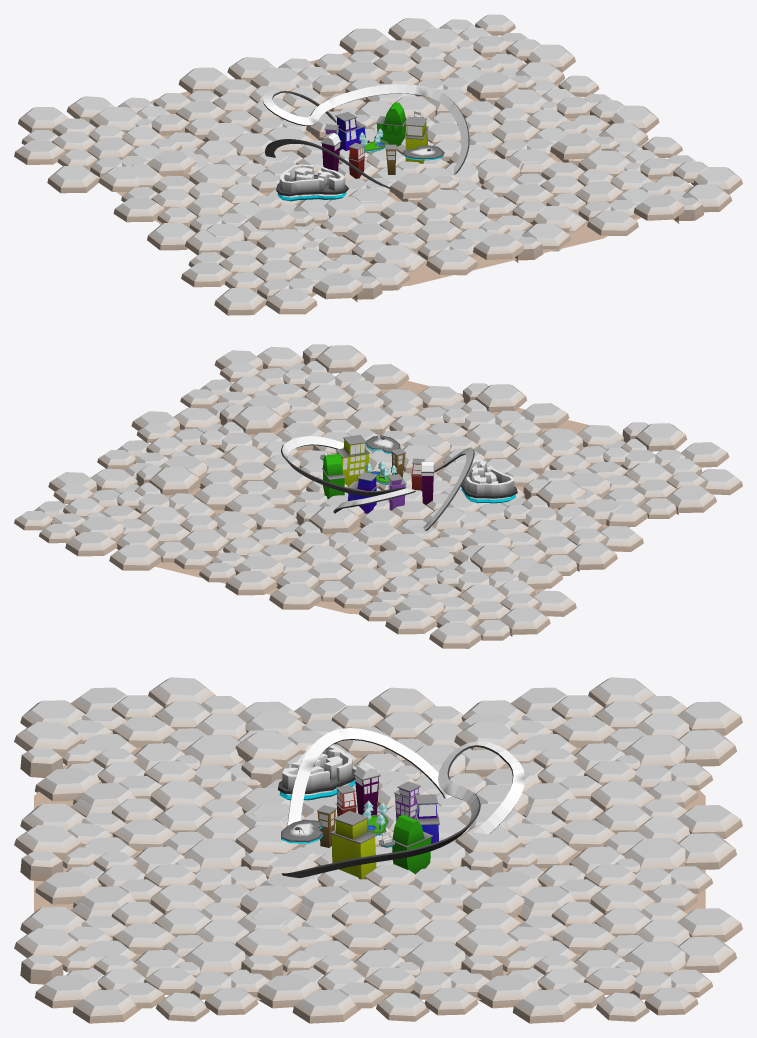
The model's file is Cloud City.fbx.
The picture shows the model from 3 angles, top to bottom: view 1: azimuth 30°, elevation 25°; view 2: azimuth 150°, elevation 25°; view 3: azimuth 270°, elevation 25°; orthographic projection. The views are drawn at different scales.
Parts seen in each view (by area): view 1: clouds, road, Plane, green building, blue building, shop.001, "Doop" building, yellow building; view 2: clouds, road, Plane, yellow building, green building, "Doop" building; view 3: clouds, road, Plane, yellow building, green building, "Doop" building, shop.001, pink building, floating island.
Part boxes in pixels (x1,y1,x2,y2): clouds: [14, 14, 742, 315]; road: [262, 84, 469, 188]; Plane: [279, 164, 345, 193]; green building: [377, 102, 405, 146]; blue building: [337, 117, 365, 150]; shop.001: [276, 117, 444, 196]; "Doop" building: [322, 133, 340, 171]; yellow building: [405, 122, 427, 163]; clouds: [14, 344, 742, 648]; road: [281, 436, 474, 530]; Plane: [463, 459, 514, 495]; yellow building: [336, 440, 368, 486]; green building: [323, 454, 344, 499]; "Doop" building: [421, 461, 433, 504]; clouds: [14, 677, 742, 1023]; road: [281, 728, 525, 878]; Plane: [282, 744, 352, 789]; yellow building: [332, 819, 376, 879]; green building: [392, 814, 431, 873]; "Doop" building: [354, 762, 378, 815]; shop.001: [278, 769, 394, 846]; pink building: [394, 785, 420, 821]; floating island: [283, 820, 321, 840].
Bounding box in the file's own units: 32381 × 3884 × 29819.
